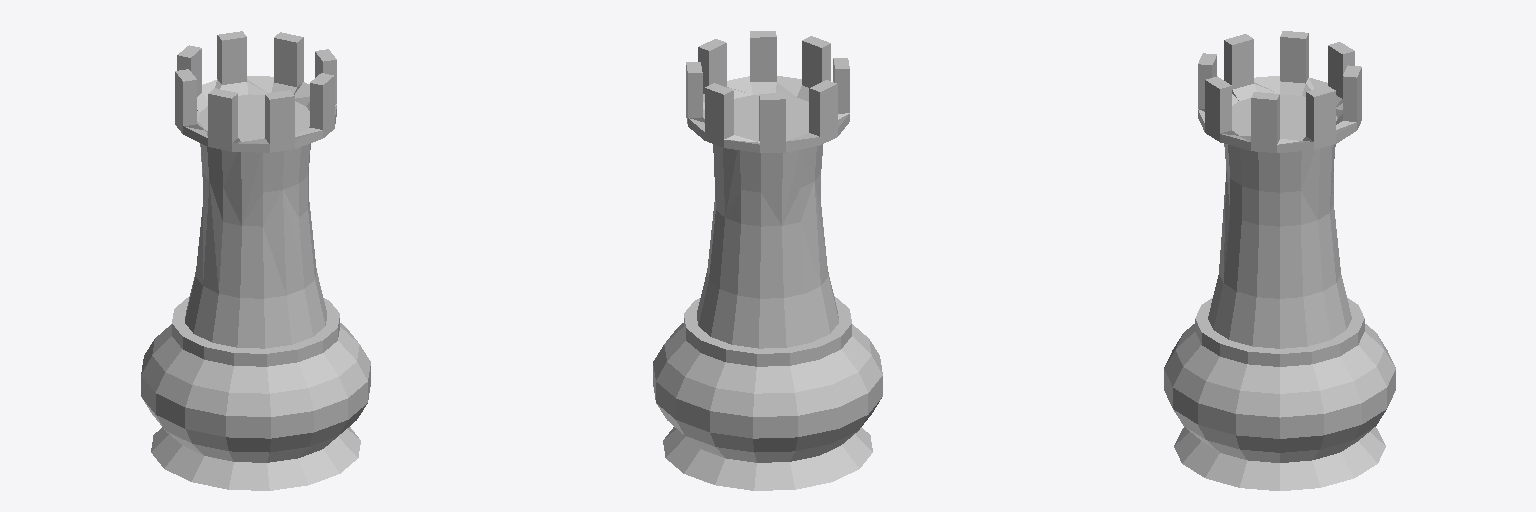
File: rook_black.obj
3 renders of one model, left to right at view 1: azimuth 30°, elevation 25°; view 2: azimuth 150°, elevation 25°; view 3: azimuth 270°, elevation 25°, orthographic.
Visible parts, largest first — view 1: Rook; view 2: Rook; view 3: Rook.
Boxes of the visible parts, x1=… form: Rook: x1=141, y1=31, x2=370, y2=490; Rook: x1=653, y1=31, x2=882, y2=490; Rook: x1=1164, y1=31, x2=1395, y2=490.
Size of the model in its own units: 1.31 by 2.38 by 1.31.